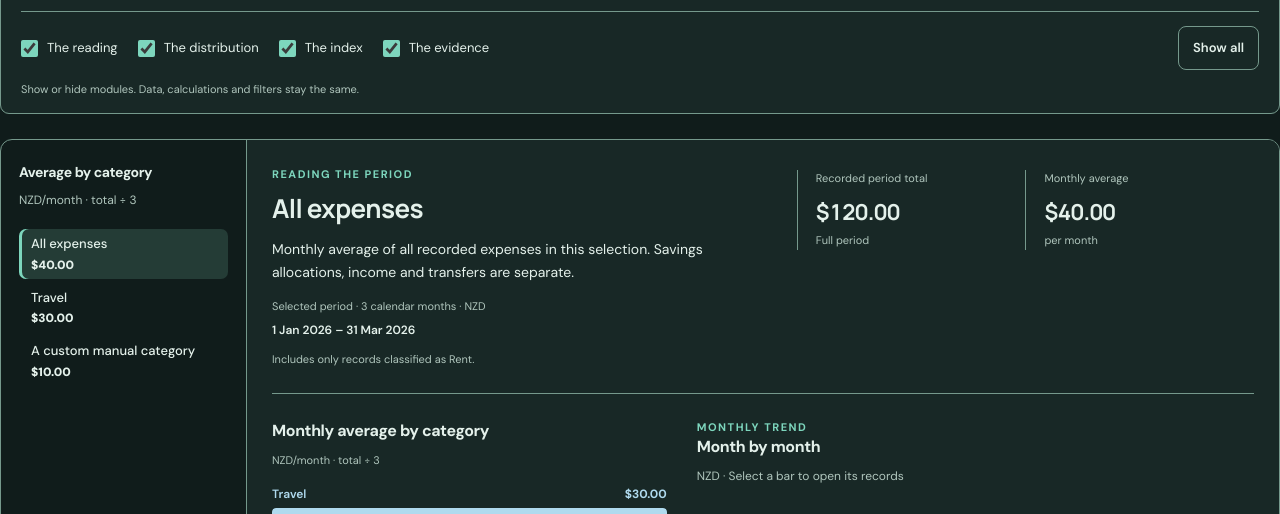
Test case: keeps custom categories directly selectable without adding category or subcategory assumptions
The width and height of the screenshot is (1280, 514).
(page scrolled)
What coordinates should you click on to do the following:
click the button "A custom manual category $10.00"
I would click on:
 (124, 361)
Its box is 19,336 -> 228,386.
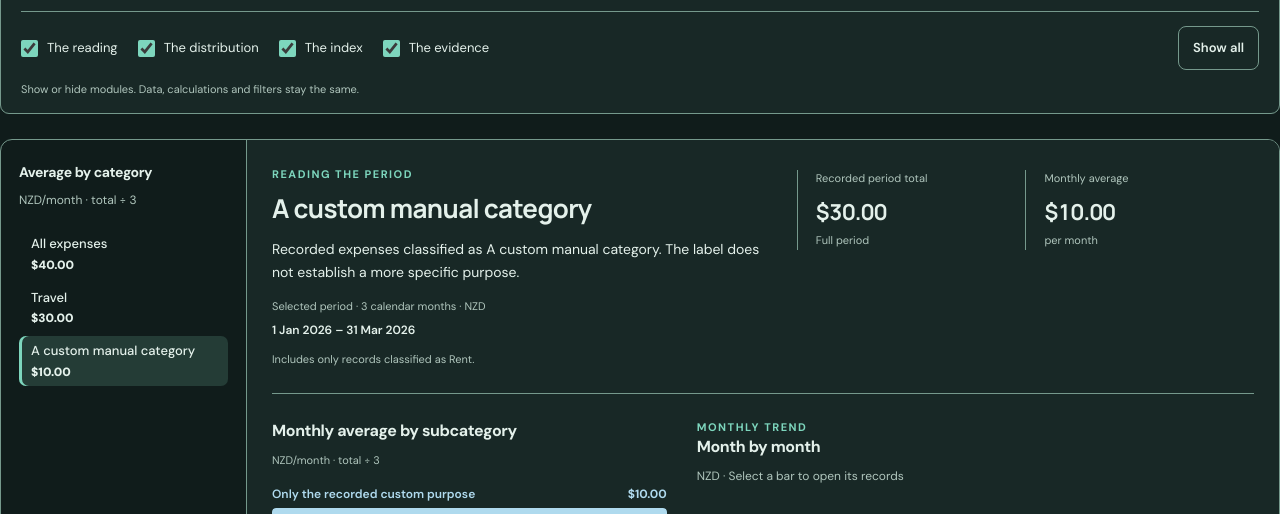
Now the element showing "Only the recorded custom purpose" is shown, box 272,486 -> 475,502
